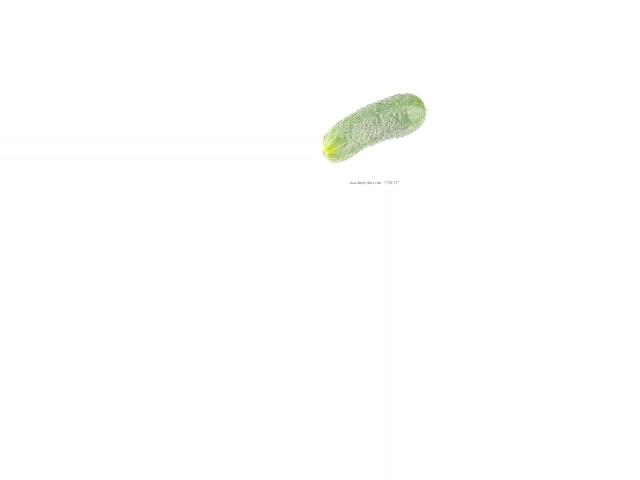cucumber: (322, 93, 427, 163)
